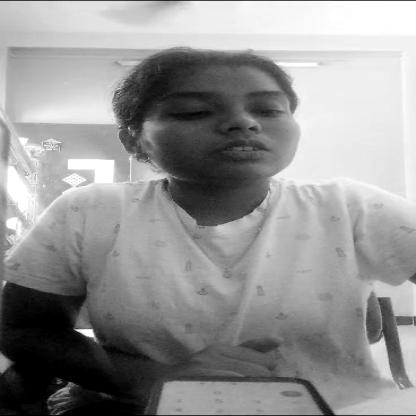Distracted: (141, 65, 312, 180)
